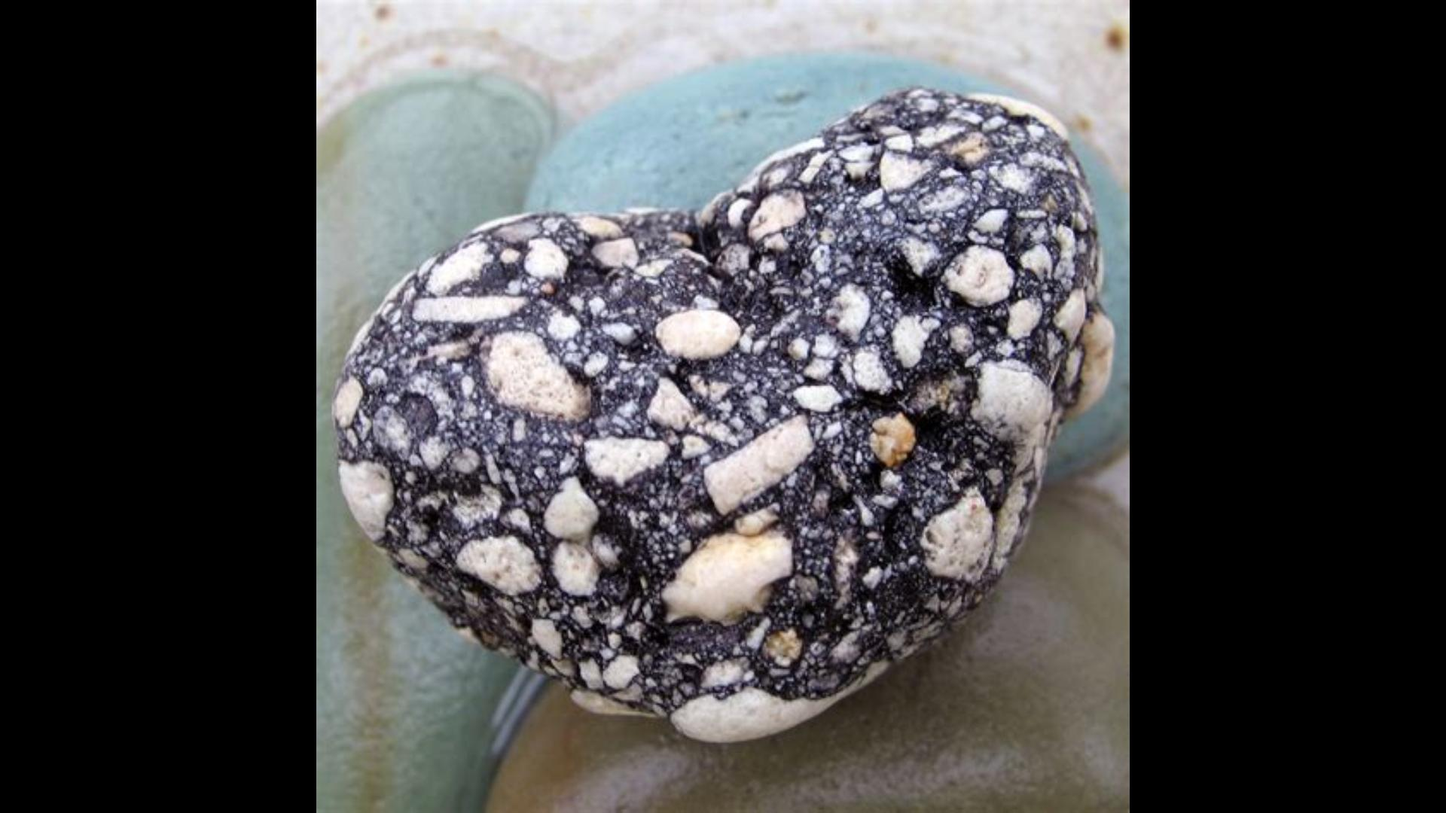rock: (337, 87, 1111, 738)
